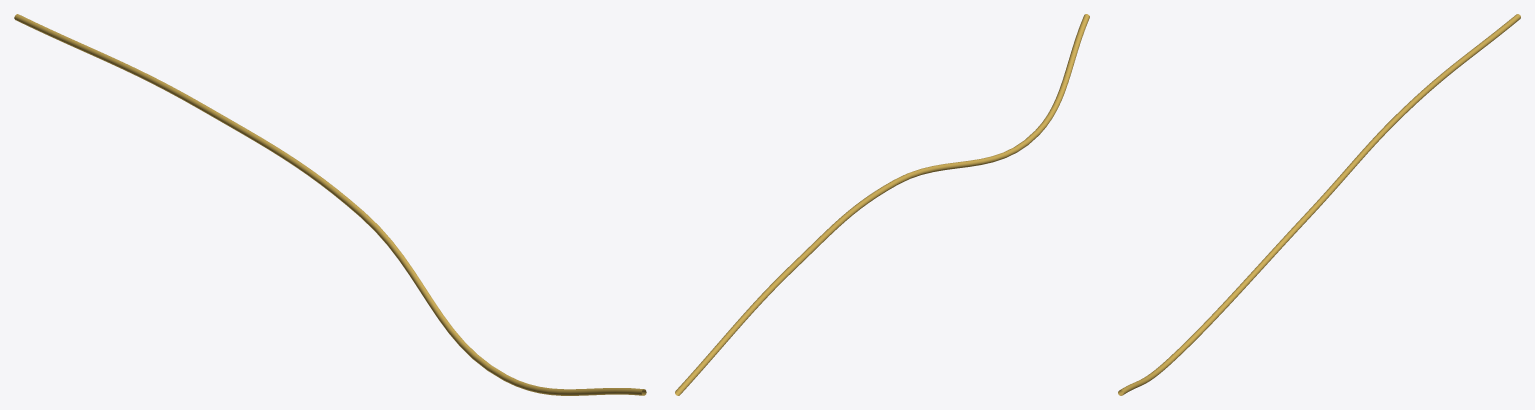
3 views of the same model, side by side, from view 1: azimuth 30°, elevation 25°; view 2: azimuth 150°, elevation 25°; view 3: azimuth 330°, elevation 25° (orthographic). The views are drawn at different scales.
Parts seen in each view (by area): view 1: 右侧闭孔神经后支; view 2: 右侧闭孔神经后支; view 3: 右侧闭孔神经后支.
Boxes of the visible parts, x1,y1,x2,y2 form: 右侧闭孔神经后支: (14, 14, 646, 395); 右侧闭孔神经后支: (675, 14, 1089, 395); 右侧闭孔神经后支: (1118, 14, 1520, 395).
Size of the model in its own units: 0.0245 by 0.0179 by 0.2342.
